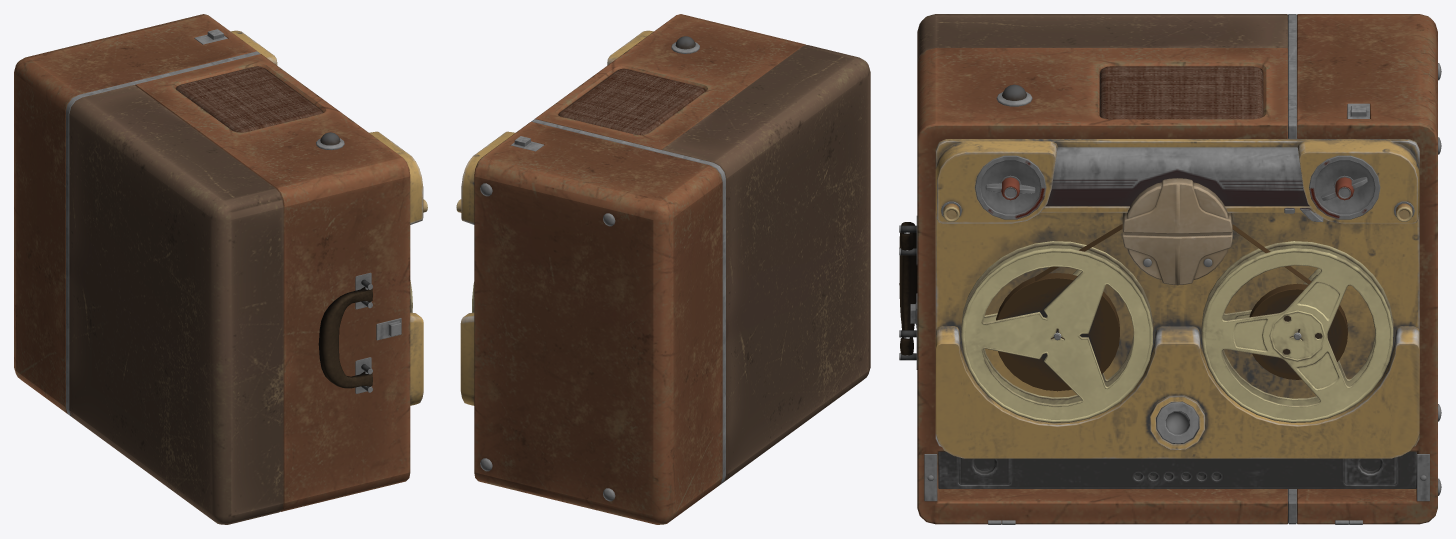
The model's file is vintage_tape_recorder.glb.
The picture shows the model from 3 angles, left to right: view 1: azimuth 30°, elevation 25°; view 2: azimuth 150°, elevation 25°; view 3: azimuth 270°, elevation 25°; orthographic projection. The views are drawn at different scales.
Parts seen in each view (by area): view 1: Tape_Recorder; view 2: Tape_Recorder; view 3: Tape_Recorder.
Boxes of the visible parts, bbox=[...] form: Tape_Recorder: bbox=[14, 14, 427, 524]; Tape_Recorder: bbox=[456, 14, 870, 524]; Tape_Recorder: bbox=[899, 14, 1441, 524].
Bounding box in the file's own units: 0.2183 × 0.3122 × 0.3704.
Materials: 1 (1 with a texture image).
